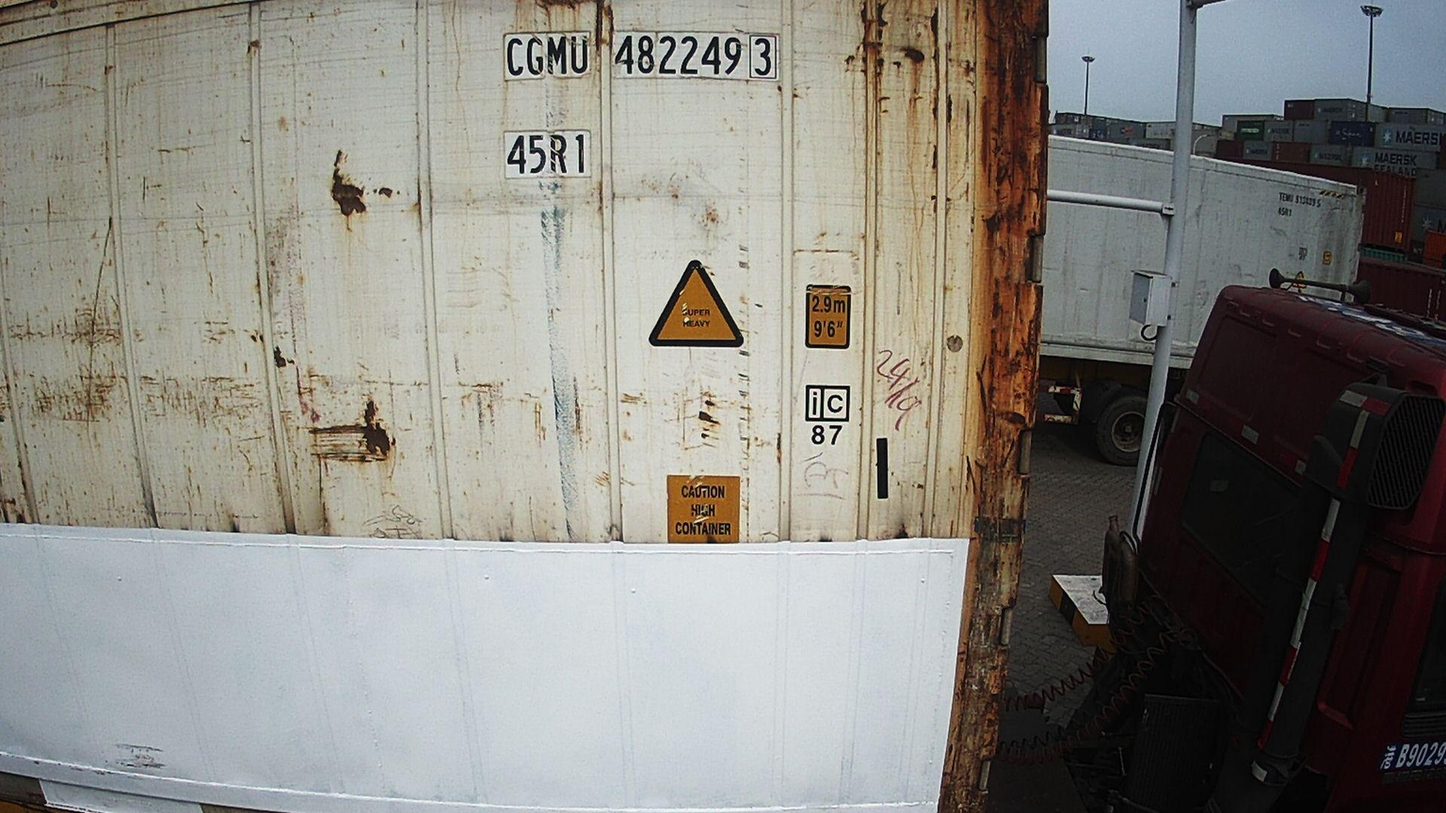container-numbers: (498, 29, 786, 82), (502, 127, 593, 179)
